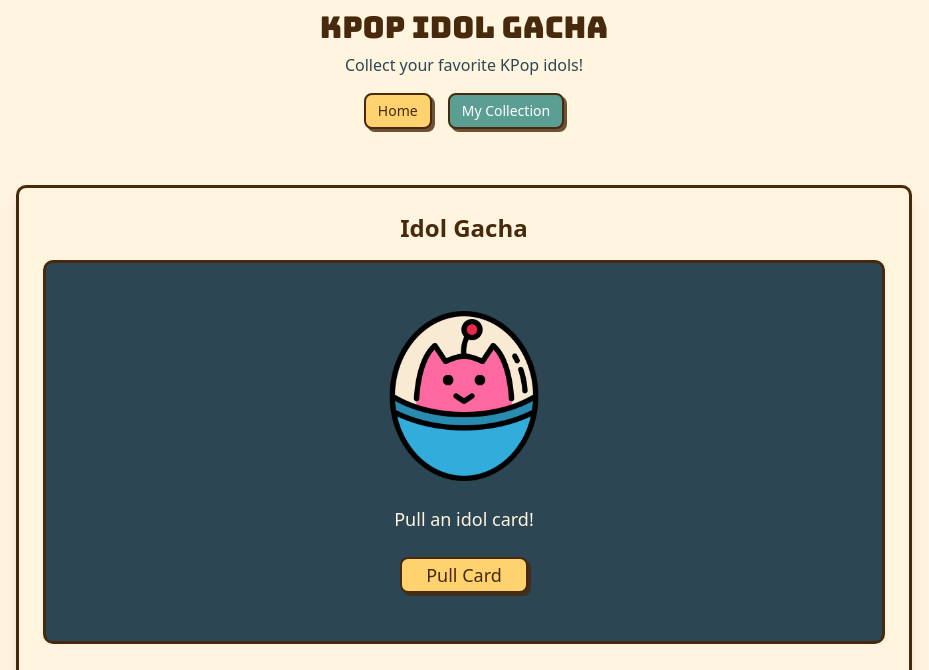
Data-Cy Attributes Comprehensive Test › Home Page Elements › should show continue button during gacha pull
The image size is (929, 670).
Note: Start gacha pull
Click the button with test id "gacha-pull-button" at x=464, y=575, box [400,557,528,593]
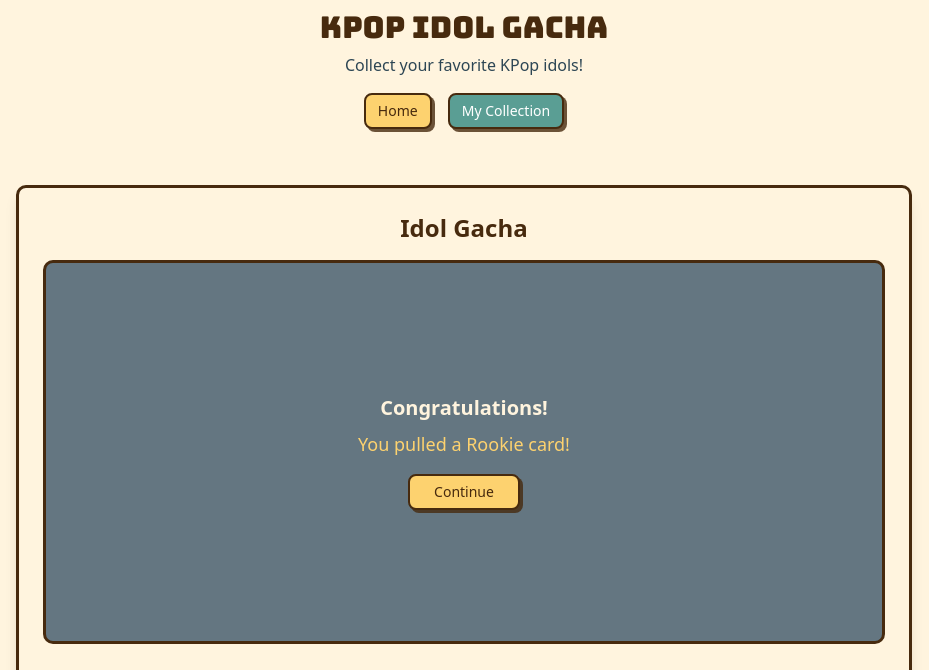
Expected: the button with test id "continue-button" is shown
Note: Click continue
Click the button with test id "continue-button" at x=464, y=492, box [408,474,520,510]
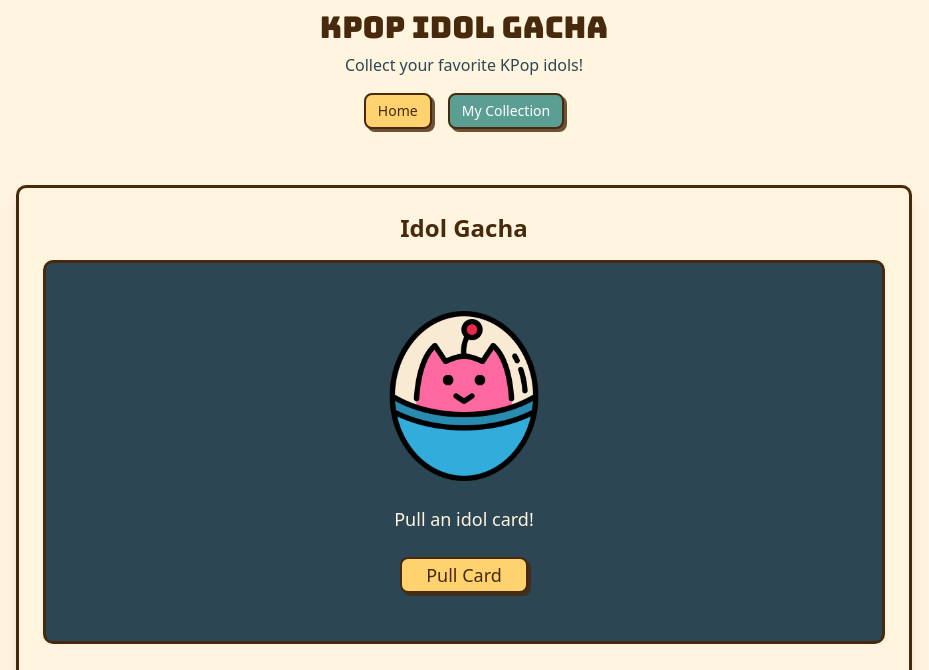
Expected: the button with test id "continue-button" is gone
